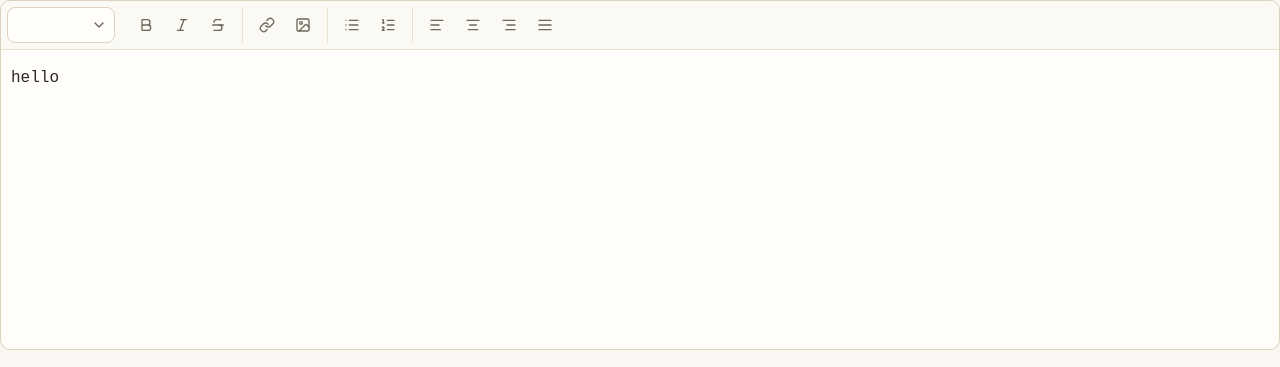
Scenario: Tiptap toolbar › keeps the panel open when the block cannot hold a link
Click the button named "Add or edit a link". click: (267, 25)
box: [249,7,285,43]
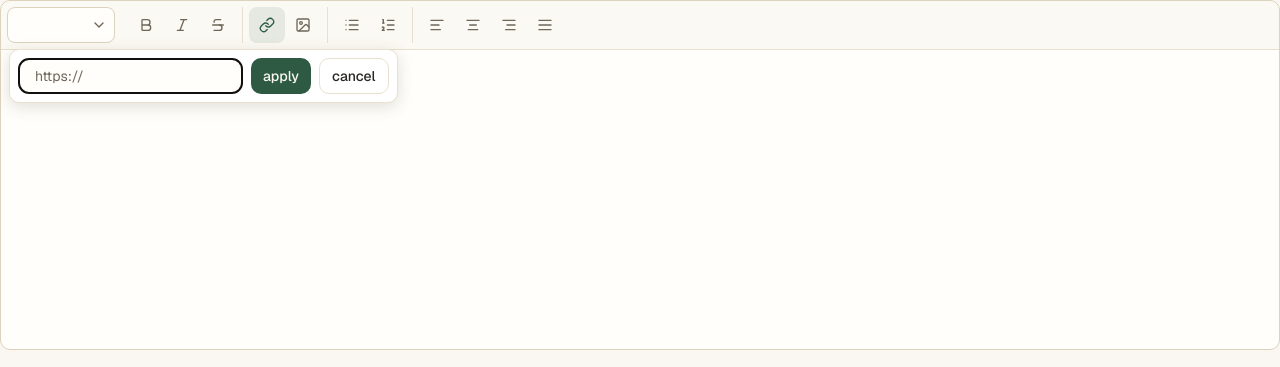
Type "https://example.com" into the field named "link url". click: (130, 76)
box: [18,58,243,94]
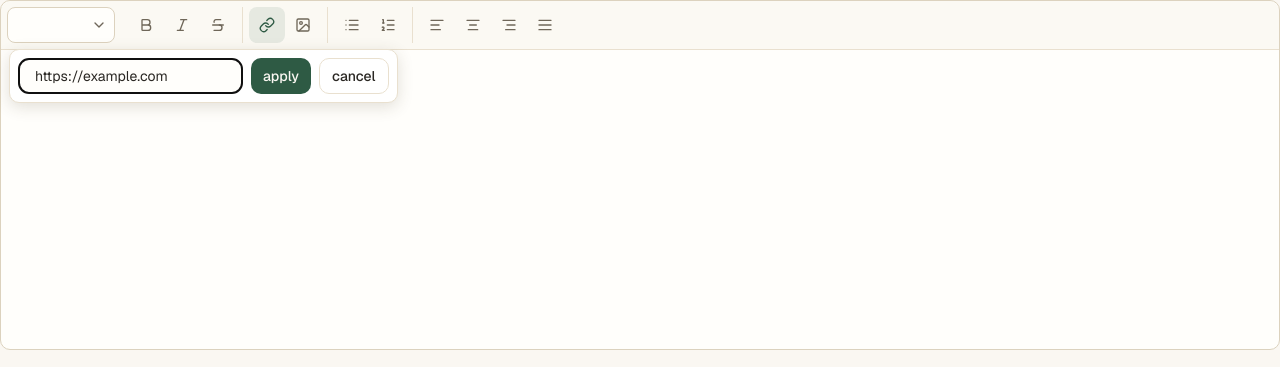
Click the button "apply". click: (281, 76)
box: [251,58,311,94]
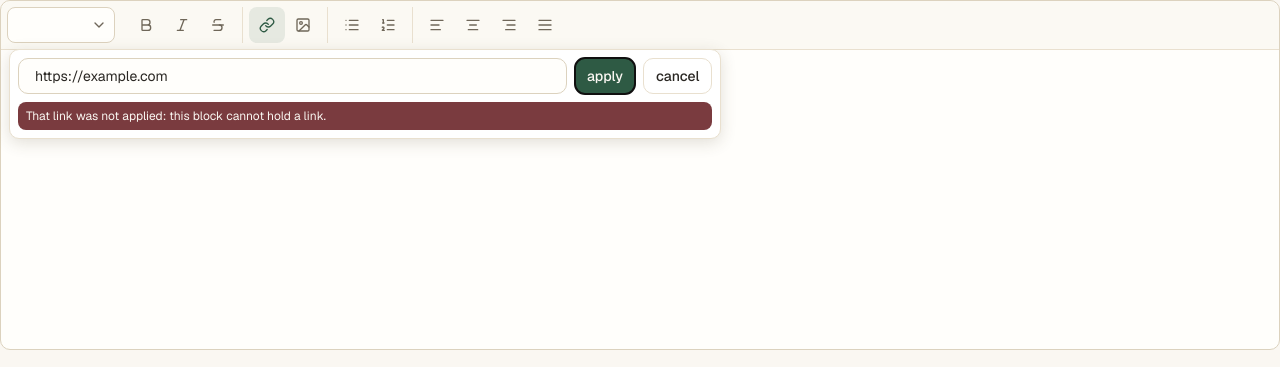
Expected: the message shows "this block cannot hold a link", [26,108,326,124]
